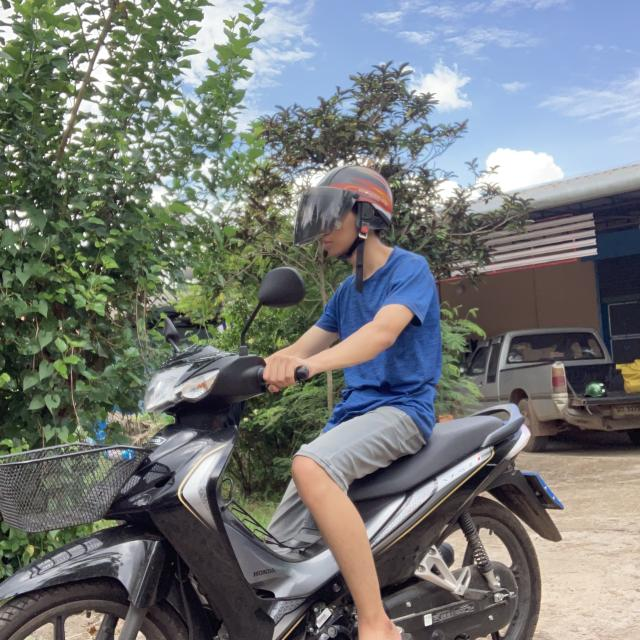helmet: (292, 161, 396, 262)
